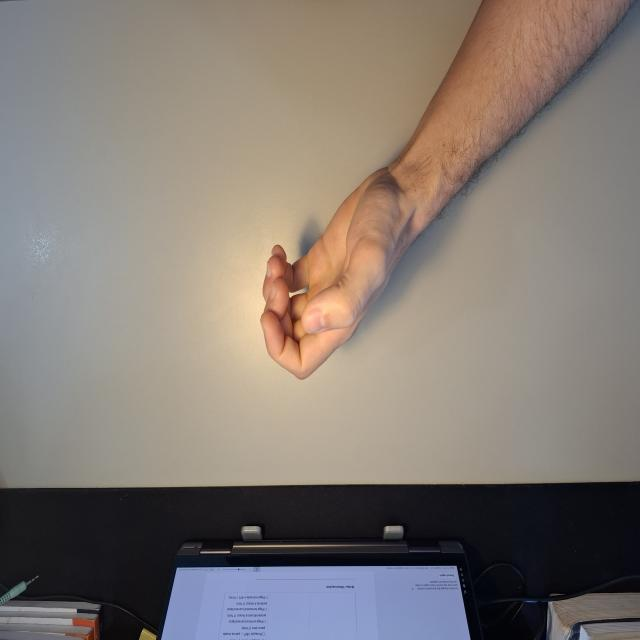glove_off: (258, 156, 416, 383)
